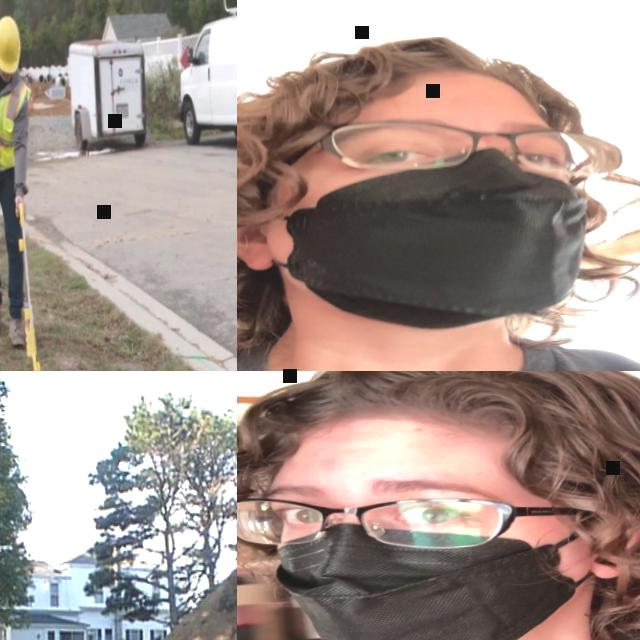helmet: (0, 16, 23, 75)
mask: (237, 144, 606, 336), (271, 517, 606, 640)
no_helmet: (245, 371, 640, 475), (237, 30, 566, 132)
no_mask: (1, 73, 12, 83)
person: (237, 21, 640, 371), (237, 371, 640, 640), (0, 15, 43, 350)
safety_cone: (28, 85, 34, 111)
vehicle: (176, 0, 237, 158)
vest: (0, 46, 34, 171)
